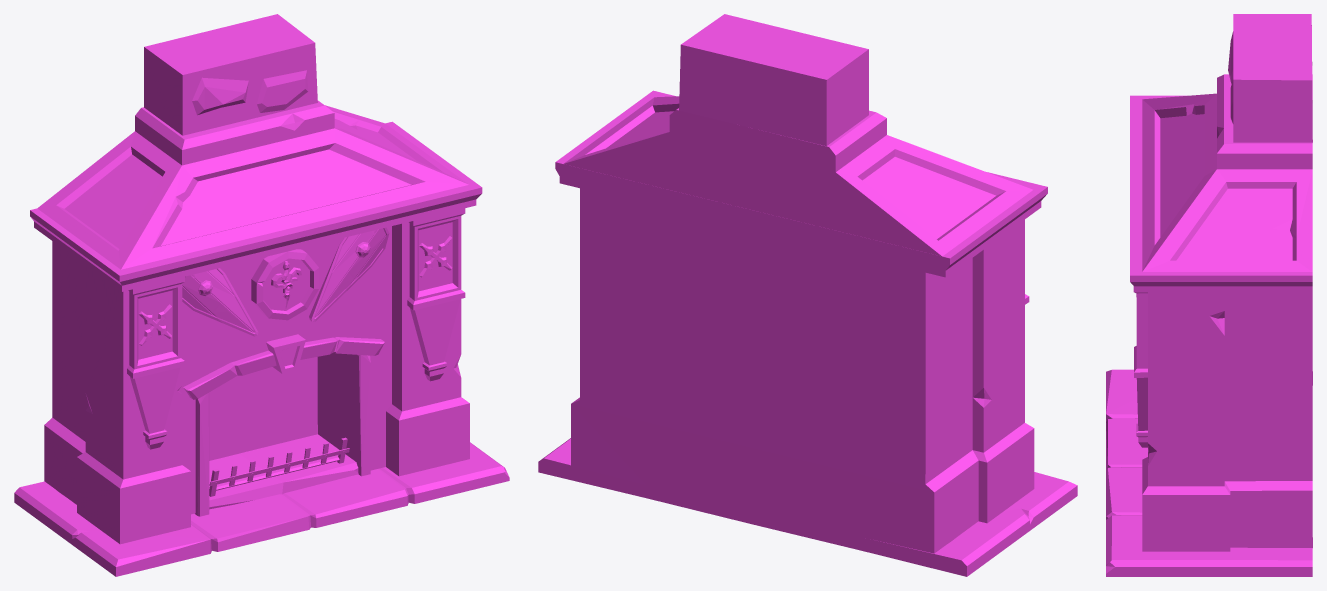
Rendered from SM_Fireplace_Royale_D_Fantasy.fbx.
The picture shows the model from 3 angles, left to right: view 1: azimuth 30°, elevation 25°; view 2: azimuth 150°, elevation 25°; view 3: azimuth 270°, elevation 25°; orthographic projection. The views are drawn at different scales.
Parts seen in each view (by area): view 1: SM_Fireplace_Royale_D_Fantasy; view 2: SM_Fireplace_Royale_D_Fantasy; view 3: SM_Fireplace_Royale_D_Fantasy.
Boxes of the visible parts, bbox=[...] form: SM_Fireplace_Royale_D_Fantasy: bbox=[14, 14, 509, 576]; SM_Fireplace_Royale_D_Fantasy: bbox=[538, 14, 1077, 576]; SM_Fireplace_Royale_D_Fantasy: bbox=[1106, 14, 1312, 576].
Size of the model in its own units: 2.91 by 3 by 1.3.
